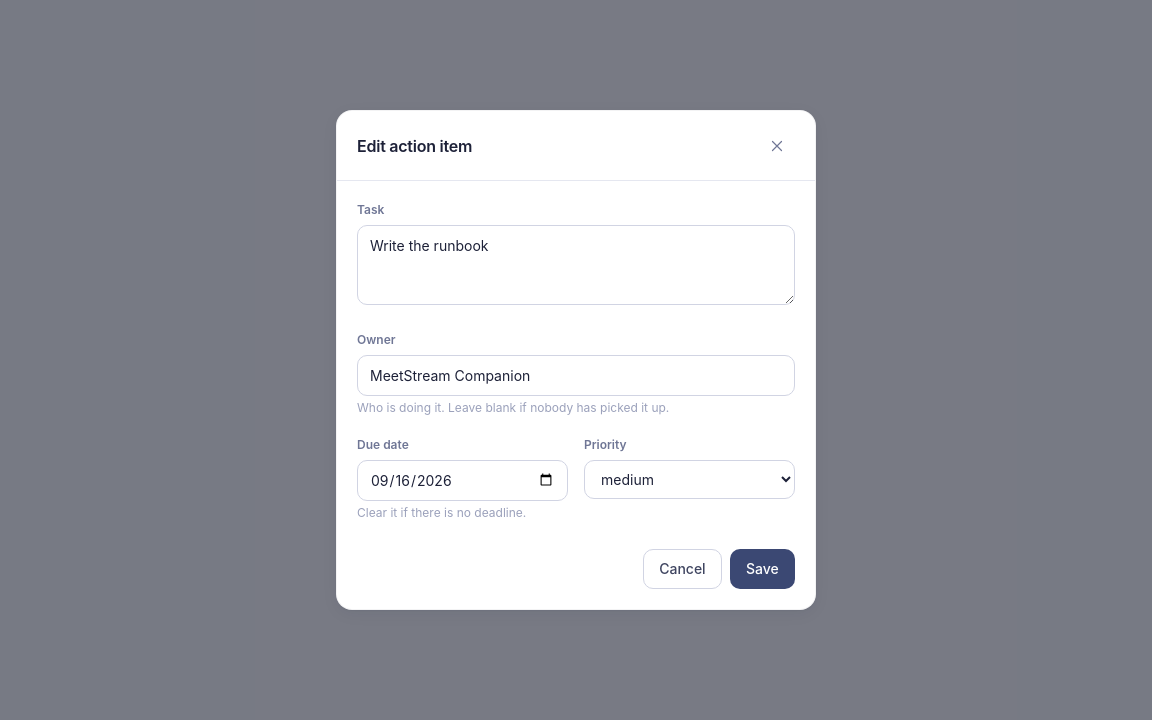
Test: ActionItemEditor › keeps the dialog open and shows the server message when saving fails
Click the button "Save" at [762, 569], box [730,549,795,589]
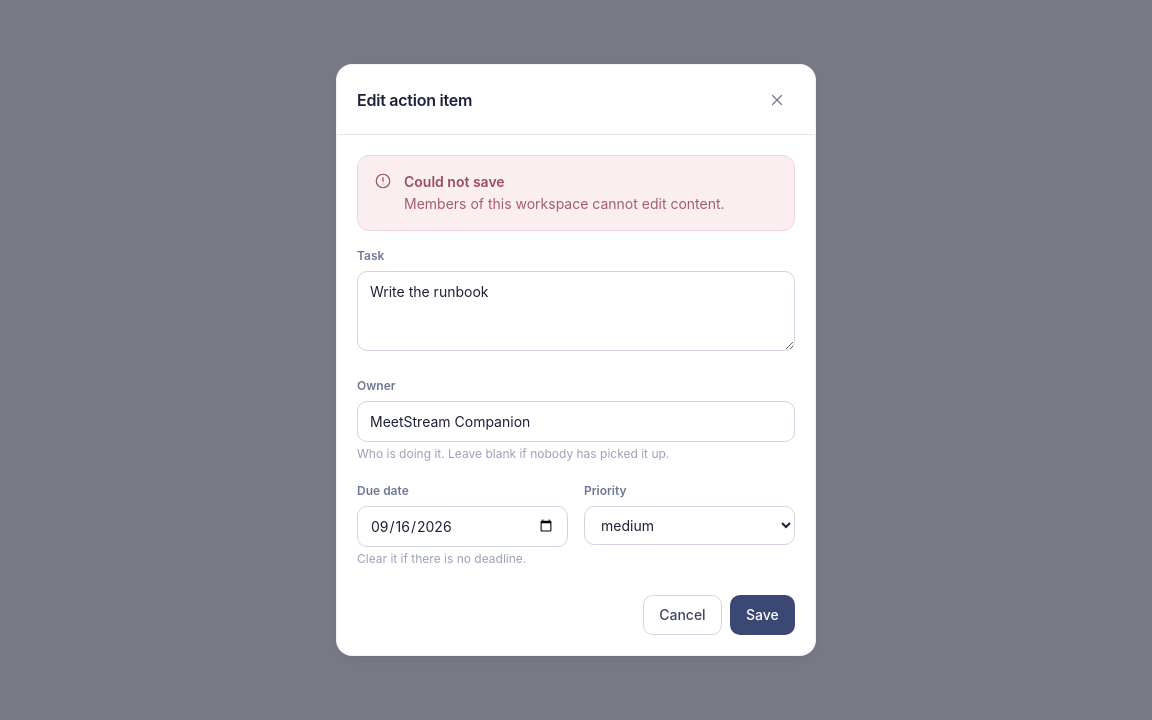
Now the text "Members of this workspace cannot edit content." is shown, box [404,194,778,214]
